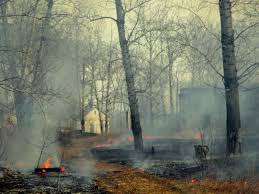fire: (33, 157, 76, 186)
smoke: (1, 33, 86, 151), (141, 89, 222, 137)
